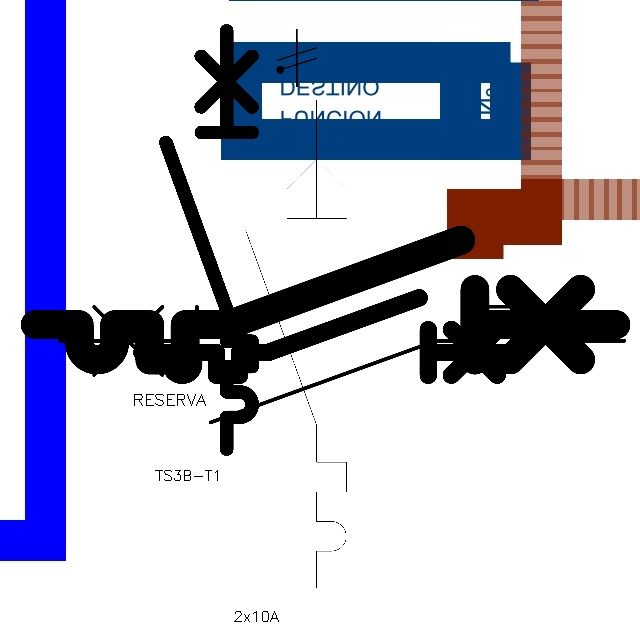interruptor_termomagnetico: (20, 225, 631, 375), (45, 292, 639, 437), (233, 87, 359, 601), (155, 20, 263, 460), (132, 288, 530, 385)
